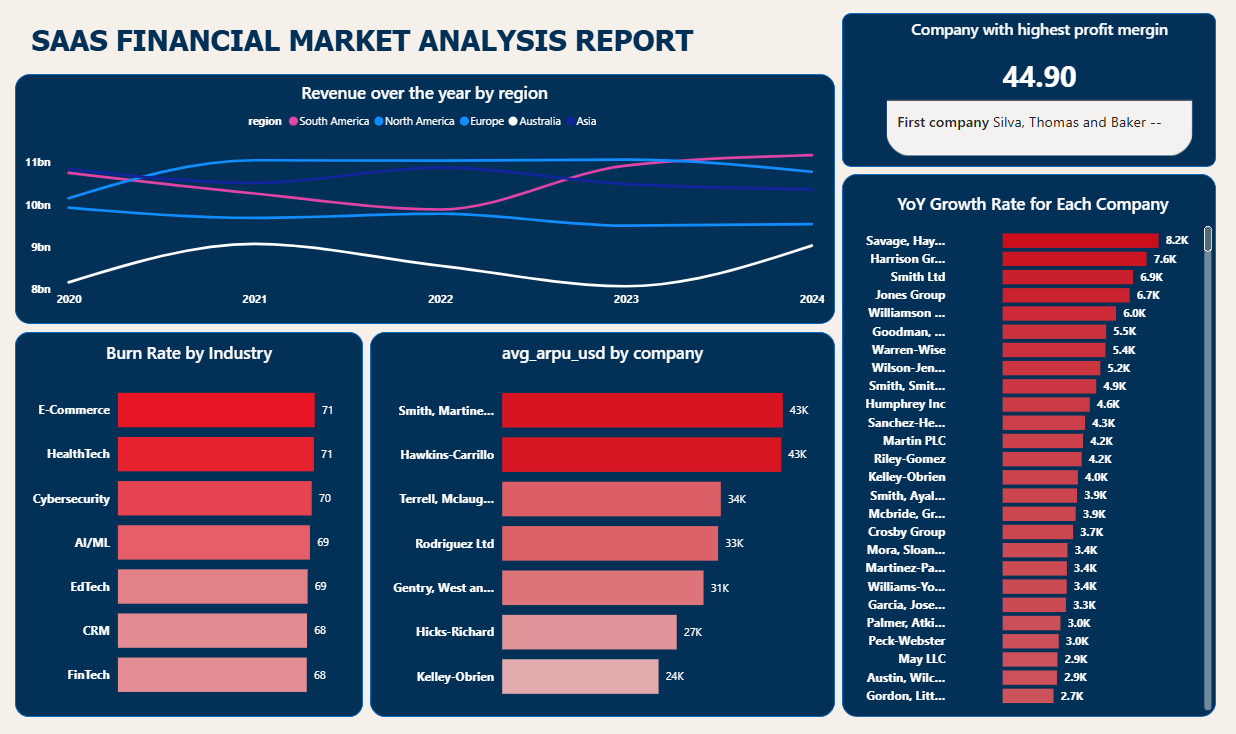

This screenshot's page, from the dashboard's own definition file:
{"tool":"powerbi","page":{"name":"Home ","canvas":[1380,820],"ordinal":0},"visuals":[{"type":"barChart","title":" avg_arpu_usd by company","fields":{"Category":["public highest_arpu_company.company"],"Y":["public highest_arpu_company.avg_arpu_usd"]},"box":[463.8,417.5,498.8,372.5],"z":2},{"type":"cardVisual","title":"Company with highest profit mergin","fields":{"Data":["public best_profit_mergin_company.profit_margin_percent"]},"box":[1018.8,30,333.8,103.8],"z":3},{"type":"barChart","title":"Burn Rate by Industry","fields":{"Category":["public highest_expenses_relative_to_revenue.industry"],"Y":["public highest_expenses_relative_to_revenue.burn_rate_percent"]},"box":[45,386.2,393.8,433.8],"z":4},{"type":"shape","box":[17.5,61.2,911.2,270],"z":5},{"type":"lineChart","title":"Revenue over the year by region","fields":{"Category":["public highest_revenue_over_the_year.year"],"Y":["public highest_revenue_over_the_year.total_revenue"],"Series":["public highest_revenue_over_the_year.region"]},"box":[23.8,65,898.8,261.2],"z":6},{"type":"shape","box":[962.5,133.8,390,656.2],"z":7},{"type":"barChart","title":"YoY Growth Rate for Each Company","fields":{"Category":["public yoy_revenue_grwth_rate_for_each_company.company"],"Y":["public yoy_revenue_grwth_rate_for_each_company.yoy_growth_rate"]},"box":[981.2,143.8,371.2,651.2],"z":8}]}

Visuals, with their boxes in screenshot pixels (x1, y1, x2, y2), scaled from the page's 1380x820 canvas onto the 1236x734 screenshot:
" avg_arpu_usd by company" barChart: (415, 374, 862, 707)
"Company with highest profit mergin" cardVisual: (912, 27, 1211, 120)
"Burn Rate by Industry" barChart: (40, 346, 393, 733)
shape: (16, 55, 832, 296)
"Revenue over the year by region" lineChart: (21, 58, 826, 292)
shape: (862, 120, 1211, 707)
"YoY Growth Rate for Each Company" barChart: (879, 129, 1211, 712)
